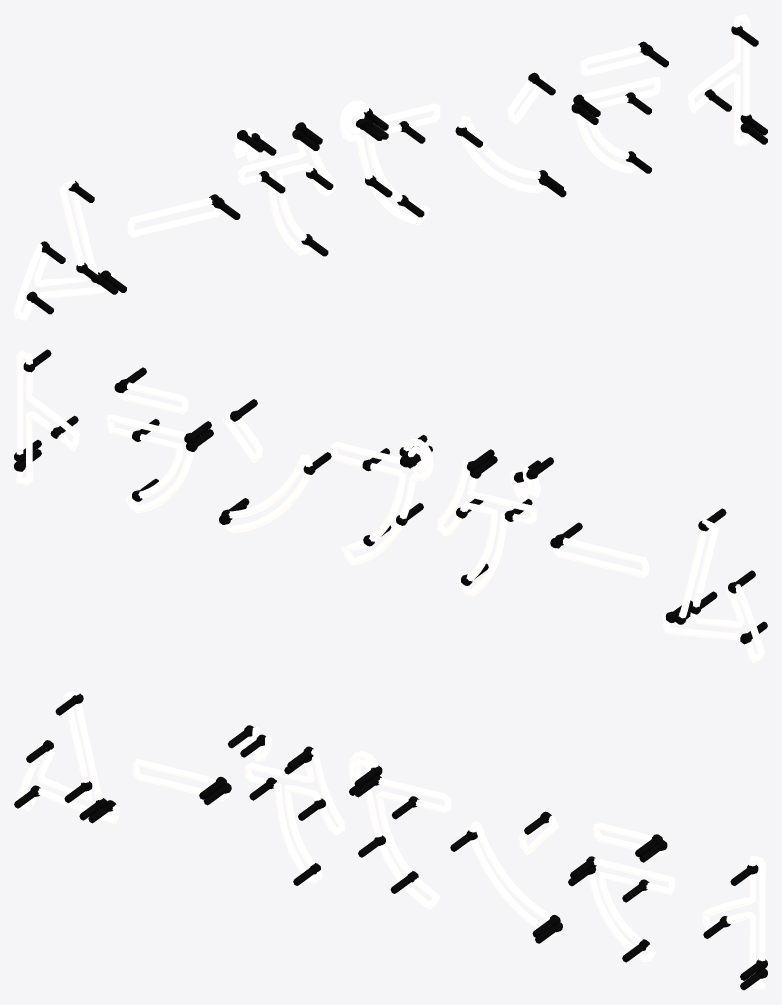
File: neon_toranpuge-mu.fbx
3 renders of one model, top to bottom at view 1: azimuth 30°, elevation 25°; view 2: azimuth 150°, elevation 25°; view 3: azimuth 330°, elevation 25°, orthographic.
Parts seen in each view (by area): view 1: NeonEnglish; view 2: NeonEnglish; view 3: NeonEnglish.
Part boxes in pixels (x1,y1,x2,y2): NeonEnglish: [14, 14, 767, 320]; NeonEnglish: [14, 349, 767, 662]; NeonEnglish: [14, 691, 767, 990].
Size of the model in its own units: 430 by 78.89 by 21.29.
